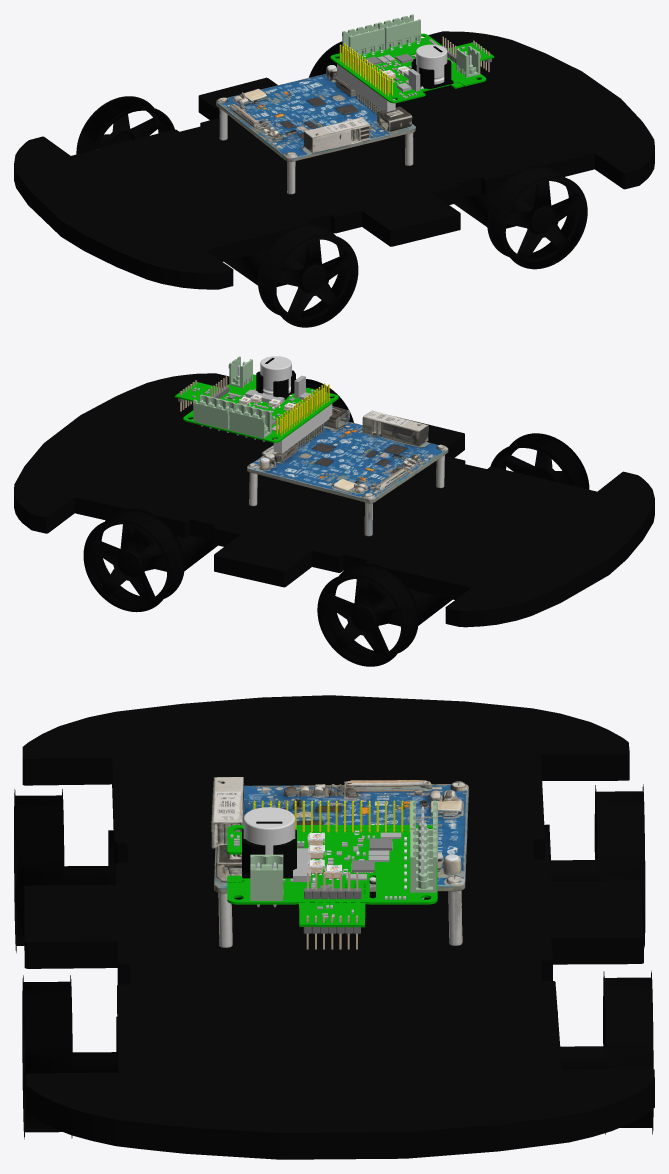
3 views of the same model, one above another, from view 1: azimuth 30°, elevation 25°; view 2: azimuth 150°, elevation 25°; view 3: azimuth 270°, elevation 25° (orthographic). The views are drawn at different scales.
Visible parts, largest first — view 1: body, Mesh_0, wheel.001, wheel.003, wheel.004, Node9, Node14, motor.001, motor.003, Node5, Node1, Node11 (+3 smaller); view 2: body, Mesh_0, wheel.004, wheel.002, wheel.003, Node14, Node9, motor.002, motor.004, Node5, Node1, Node11 (+2 smaller); view 3: body, Mesh_0, Node9, wheel.001, wheel.003, wheel.002, wheel.004, Node14, Node1, Node7, Node5, motor.004 (+7 smaller).
Part boxes in pixels (x1=…): body: x1=14, y1=31, x2=654, y2=289; Mesh_0: x1=216, y1=65, x2=415, y2=194; wheel.001: x1=487, y1=165, x2=587, y2=269; wheel.003: x1=258, y1=224, x2=358, y2=327; wheel.004: x1=76, y1=96, x2=174, y2=154; Node9: x1=330, y1=33, x2=494, y2=103; Node14: x1=342, y1=14, x2=480, y2=77; motor.001: x1=454, y1=184, x2=536, y2=228; motor.003: x1=224, y1=243, x2=307, y2=286; Node5: x1=339, y1=43, x2=392, y2=96; Node1: x1=370, y1=44, x2=447, y2=84; Node11: x1=337, y1=64, x2=395, y2=111; body: x1=14, y1=373, x2=654, y2=627; Mesh_0: x1=247, y1=406, x2=448, y2=536; wheel.004: x1=317, y1=563, x2=418, y2=666; wheel.002: x1=83, y1=508, x2=184, y2=612; wheel.003: x1=490, y1=433, x2=589, y2=489; Node14: x1=193, y1=356, x2=271, y2=438; Node9: x1=174, y1=374, x2=338, y2=442; motor.002: x1=135, y1=527, x2=217, y2=571; motor.004: x1=368, y1=582, x2=452, y2=626; Node5: x1=276, y1=383, x2=329, y2=435; Node1: x1=260, y1=356, x2=291, y2=425; Node11: x1=273, y1=404, x2=332, y2=453; body: x1=22, y1=695, x2=654, y2=1159; Mesh_0: x1=211, y1=777, x2=468, y2=947; Node9: x1=227, y1=825, x2=437, y2=927; wheel.001: x1=22, y1=975, x2=72, y2=1139; wheel.003: x1=14, y1=789, x2=64, y2=952; wheel.002: x1=603, y1=970, x2=653, y2=1134; wheel.004: x1=594, y1=784, x2=645, y2=948; Node14: x1=250, y1=800, x2=437, y2=900; Node1: x1=243, y1=807, x2=392, y2=872; Node7: x1=230, y1=832, x2=405, y2=918; Node5: x1=253, y1=800, x2=410, y2=832; motor.004: x1=544, y1=824, x2=597, y2=881.
Bounding box in the file's own units: 0.4584 × 0.1382 × 0.2835.
18 materials, 1 textured.
